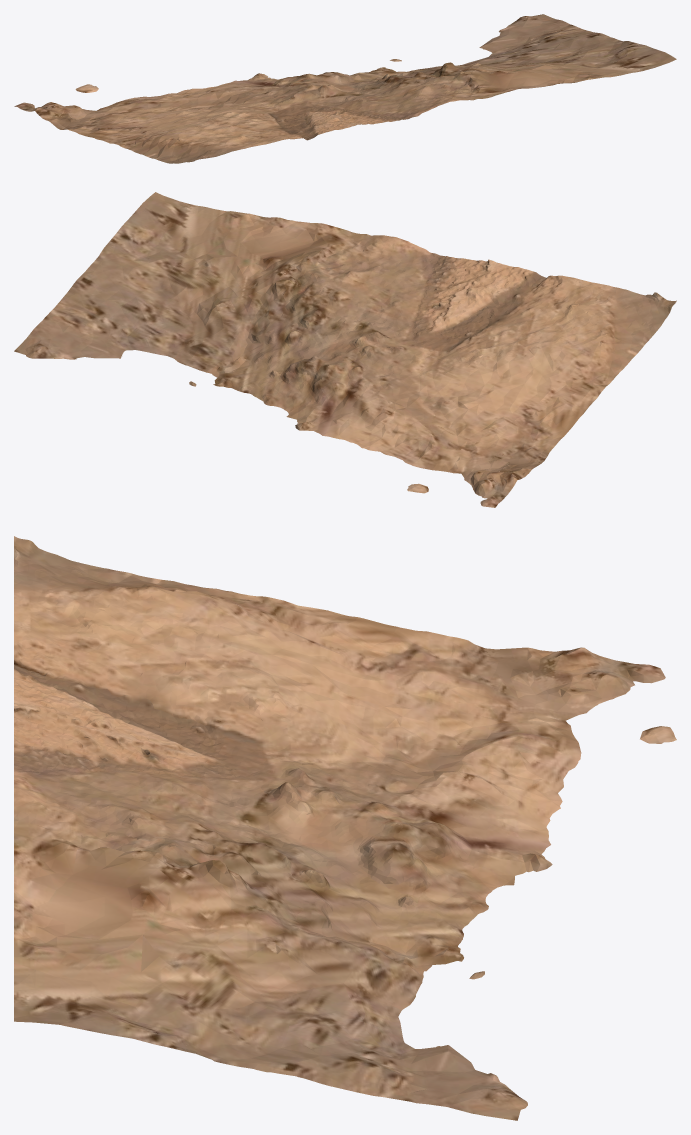
3 views of the same model, one above another, from view 1: azimuth 30°, elevation 25°; view 2: azimuth 150°, elevation 25°; view 3: azimuth 270°, elevation 25° (orthographic). The views are drawn at different scales.
Bounding box in the file's own units: 2.09 × 0.2969 × 1.29.
1 material, 1 textured.
